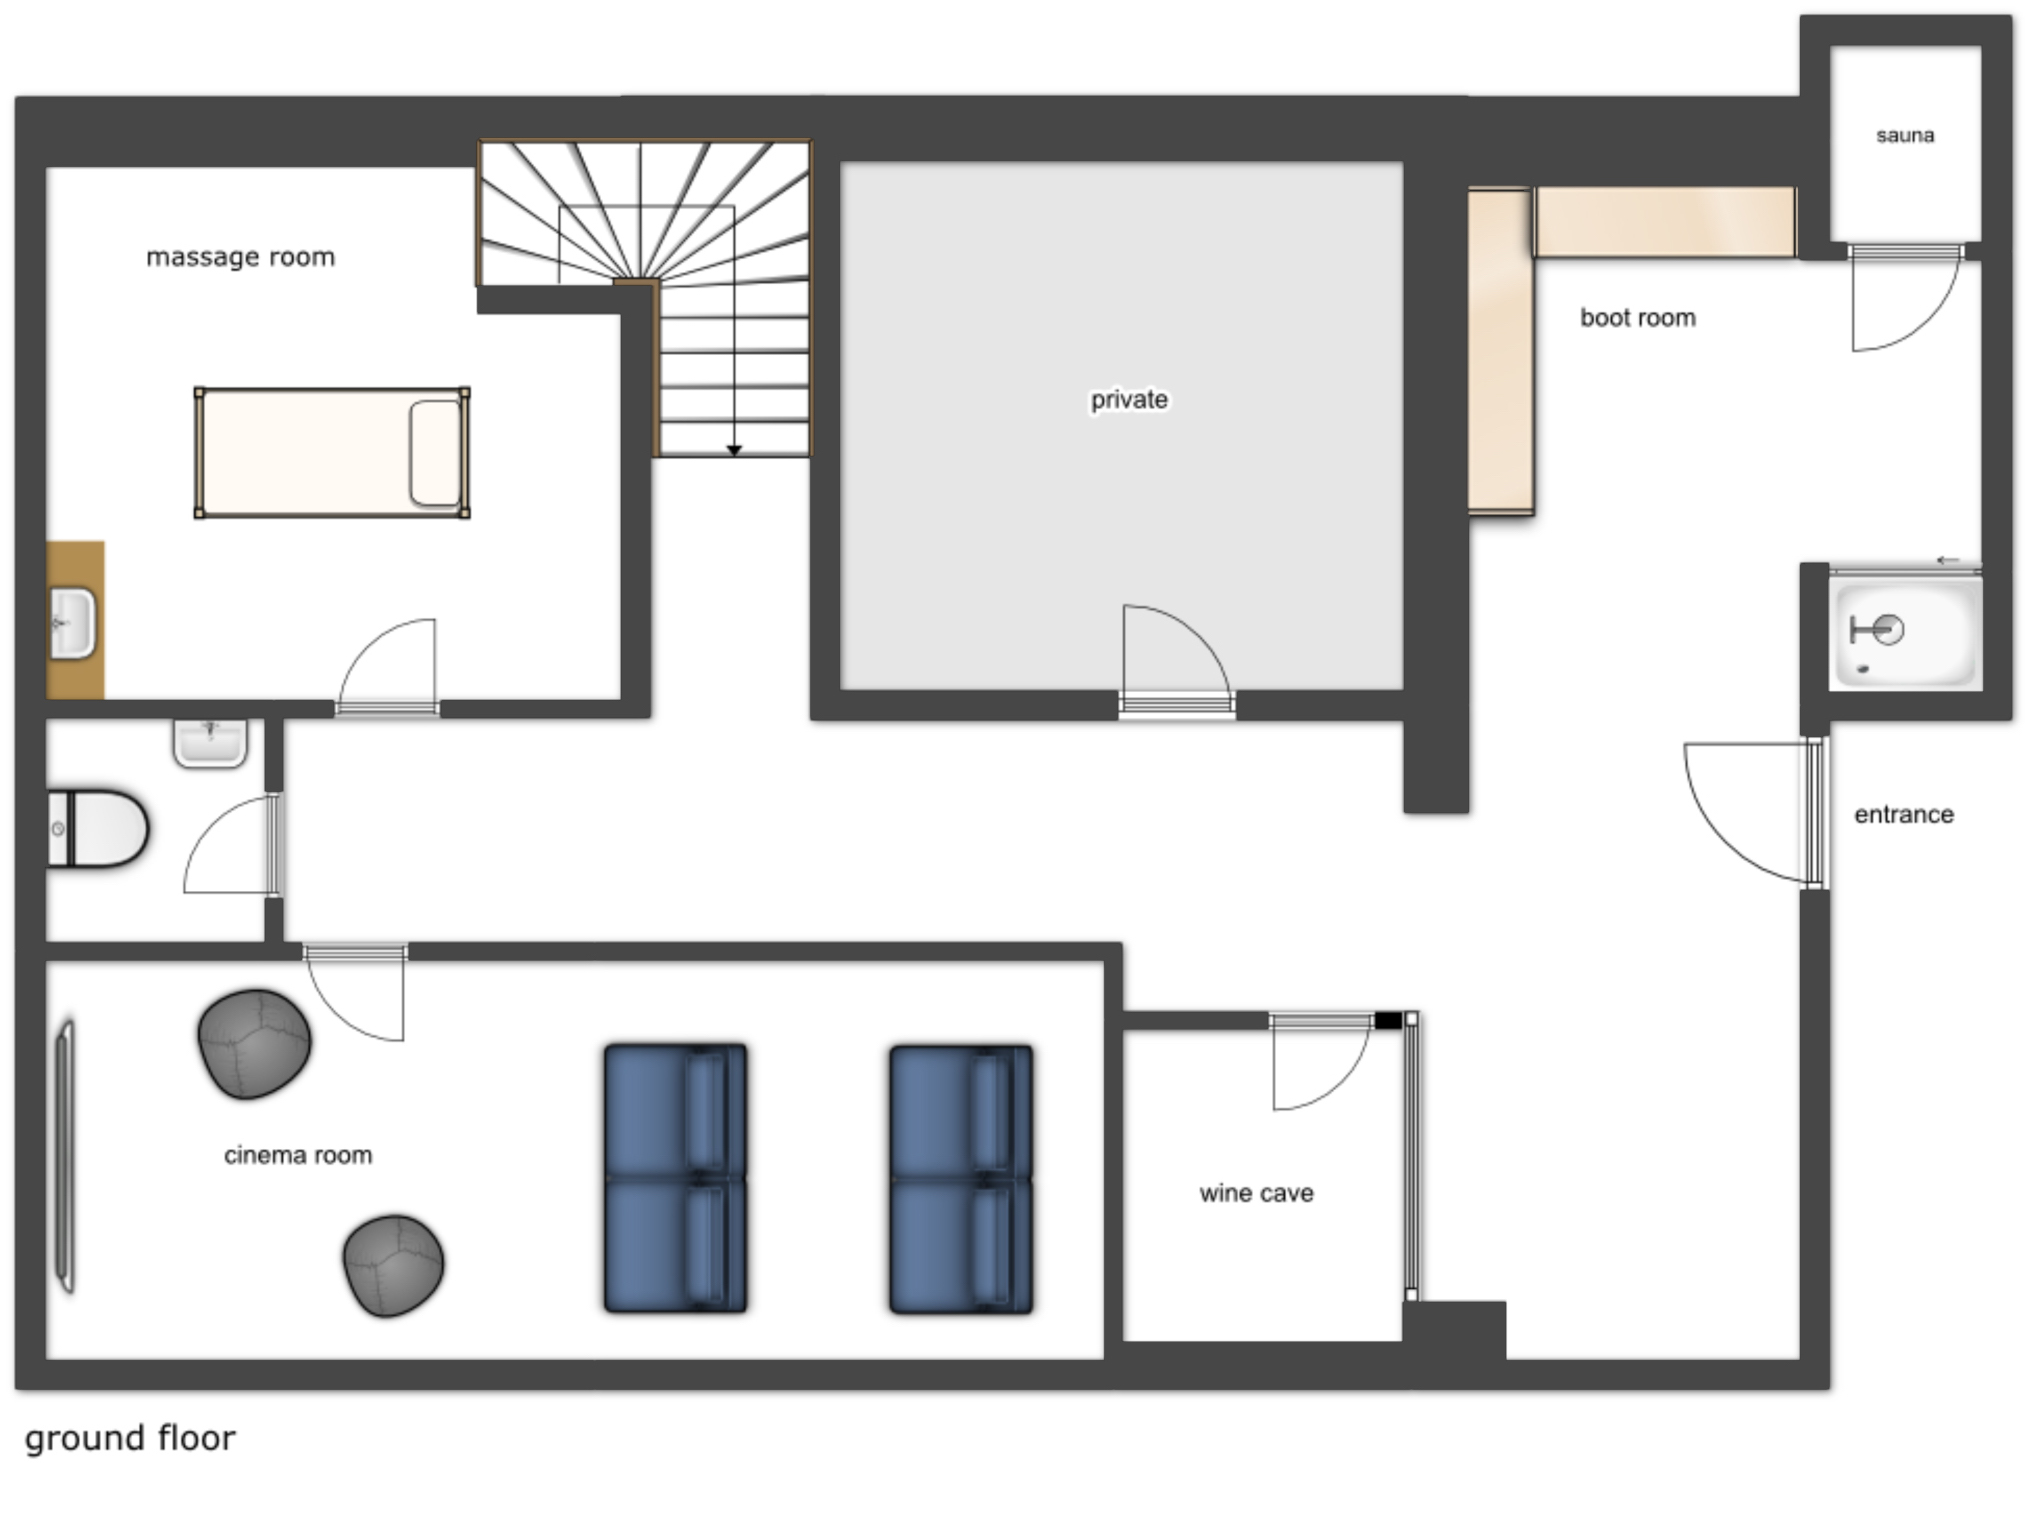door: (1659, 721, 1794, 898), (1841, 271, 1961, 378), (1110, 595, 1240, 691), (338, 603, 451, 703), (166, 792, 270, 900), (1266, 1029, 1370, 1129), (310, 964, 415, 1055)
